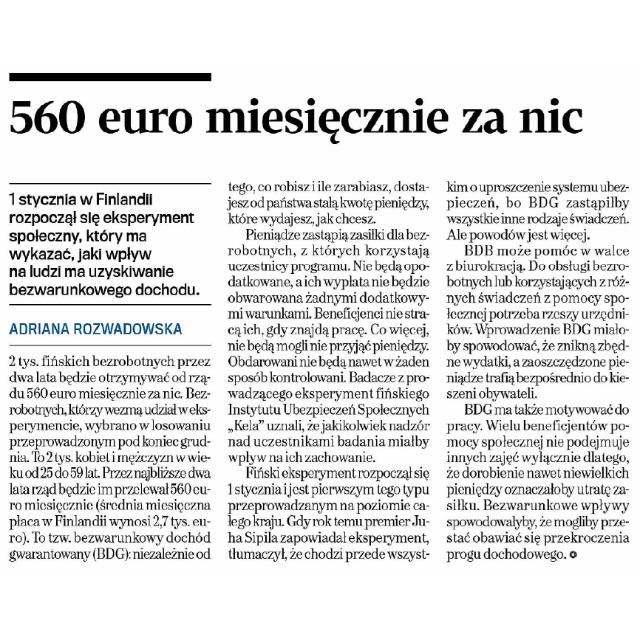author: (5, 316, 188, 342)
body: (222, 177, 434, 567), (442, 176, 636, 568), (4, 352, 216, 566)
lead: (4, 188, 206, 302)
title: (3, 90, 594, 150)
